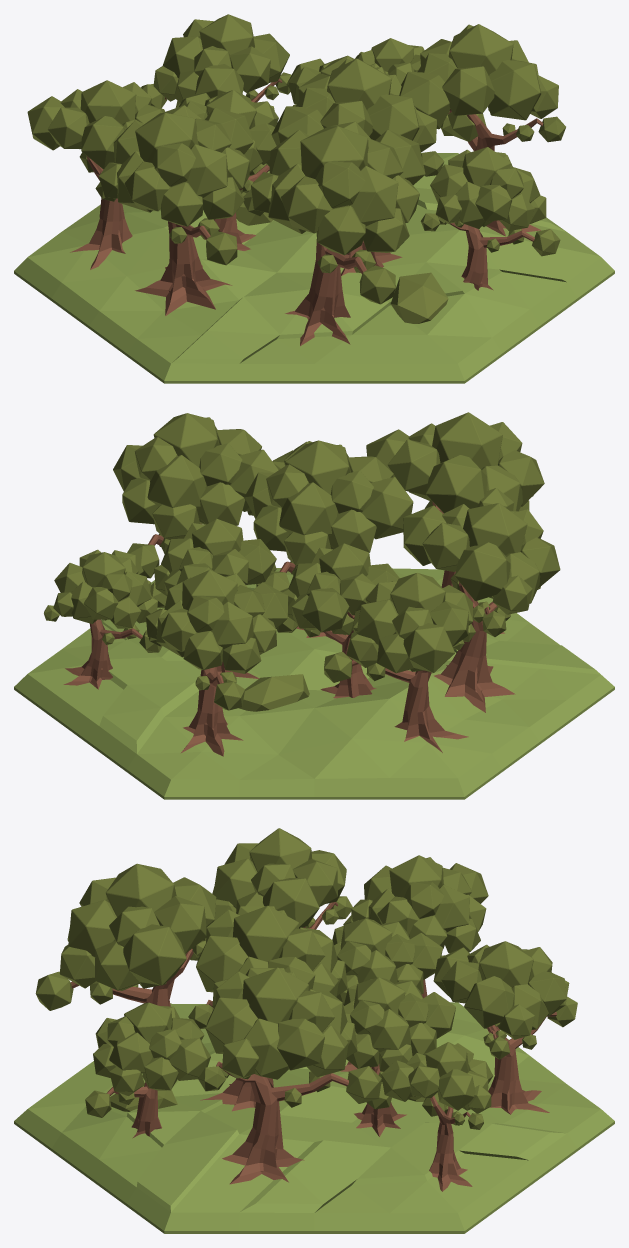
File: deciduousForest.glb
3 views of the same model, one above another, from view 1: azimuth 30°, elevation 25°; view 2: azimuth 150°, elevation 25°; view 3: azimuth 270°, elevation 25° (orthographic).
Parts seen in each view (by area): view 1: Deciduousforest; view 2: Deciduousforest; view 3: Deciduousforest.
Part boxes in pixels (left/top/right/bottom): Deciduousforest: left=14, top=14, right=614, bottom=383; Deciduousforest: left=14, top=412, right=614, bottom=799; Deciduousforest: left=14, top=828, right=614, bottom=1233.
Bounding box in the file's own units: 1.73 × 0.8374 × 2.
